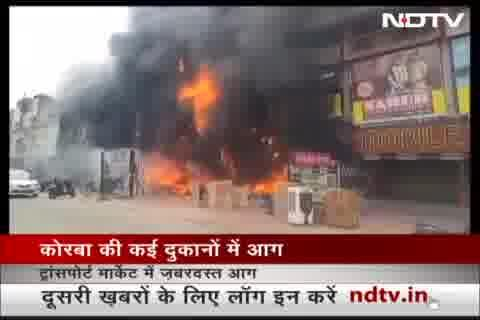smoke: (133, 8, 337, 159)
